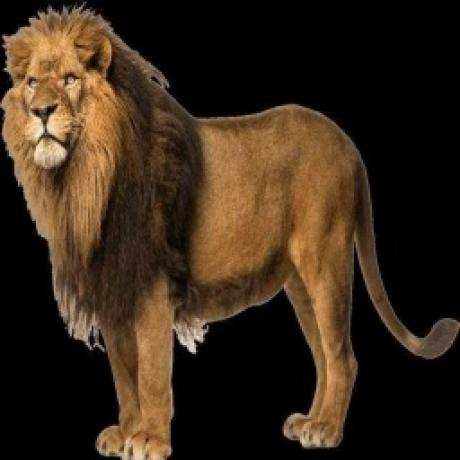Lion: (1, 0, 460, 460)
